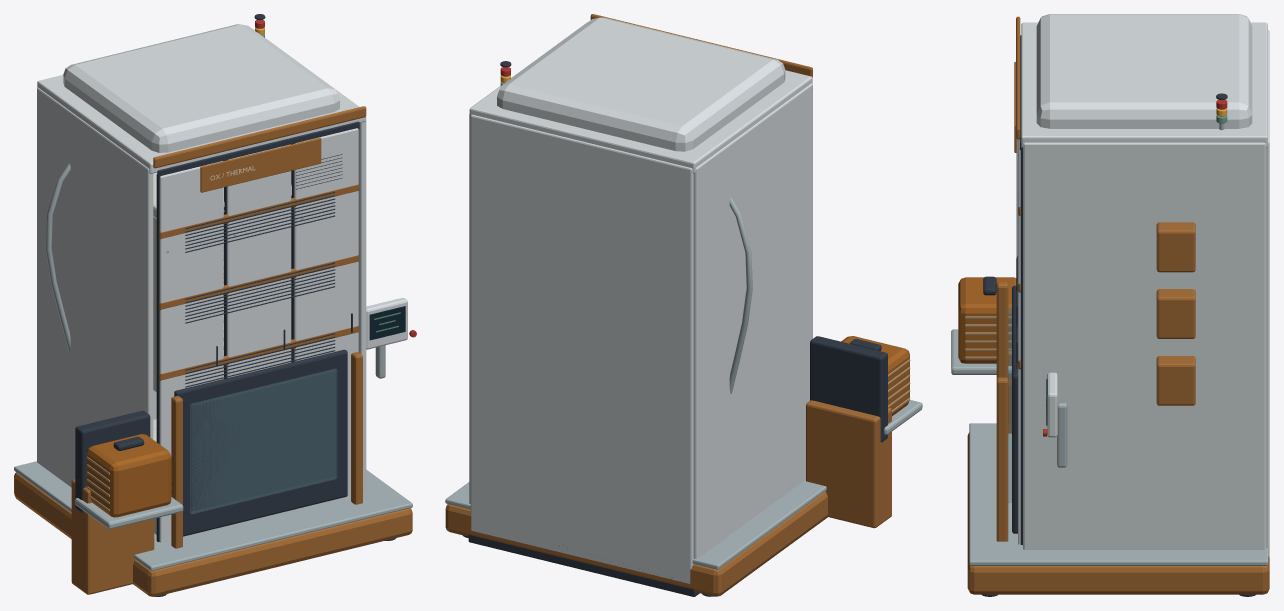
The model's file is equipment-oxidation.glb.
3 renders of one model, left to right at view 1: azimuth 30°, elevation 25°; view 2: azimuth 150°, elevation 25°; view 3: azimuth 270°, elevation 25°, orthographic. The views are drawn at different scales.
Parts seen in each view (by area): view 1: Side service skin, Boat elevator dark recess, Insulated vertical furnace crown, Boat service window, Removable service door, Removable service door.002, Removable service door.001, Segmented service plinth, Raised deck edge, Amber wafer transport pod, Independent load port base, Filtered ceiling (+17 smaller); view 2: Rear utility enclosure, Side service skin, Insulated vertical furnace crown, Independent load port base, Filtered ceiling, Segmented service plinth, Pod docking bulkhead, Raised deck edge, Equipment plinth, Amber wafer transport pod, Process feed, Side service skin.001 (+1 smaller); view 3: Side service skin.001, Insulated vertical furnace crown, Segmented service plinth, Raised deck edge, Filtered ceiling, Amber wafer transport pod, Boat bay vertical reveal.001, Thermal zone controller.002, Thermal zone controller.001, Thermal zone controller, Rear utility enclosure, Boat elevator dark recess (+8 smaller).
Boxes of the visible parts, x1,y1,x2,y2 form: Side service skin: [37, 87, 153, 487]; Boat elevator dark recess: [174, 349, 347, 536]; Insulated vertical furnace crown: [63, 24, 339, 152]; Boat service window: [190, 369, 336, 513]; Removable service door: [159, 161, 223, 542]; Removable service door.002: [294, 128, 358, 509]; Removable service door.001: [227, 144, 291, 526]; Segmented service plinth: [14, 472, 412, 596]; Raised deck edge: [14, 461, 412, 570]; Amber wafer transport pod: [86, 434, 171, 517]; Independent load port base: [71, 479, 154, 594]; Filtered ceiling: [37, 29, 365, 173]; Rear utility enclosure: [470, 114, 693, 583]; Side service skin: [693, 83, 812, 564]; Insulated vertical furnace crown: [497, 17, 785, 151]; Independent load port base: [806, 400, 891, 528]; Filtered ceiling: [469, 22, 812, 173]; Segmented service plinth: [445, 491, 827, 596]; Pod docking bulkhead: [810, 336, 887, 442]; Raised deck edge: [445, 480, 826, 569]; Equipment plinth: [468, 535, 699, 596]; Amber wafer transport pod: [841, 336, 909, 415]; Process feed: [729, 197, 752, 393]; Side service skin.001: [469, 114, 470, 503]; Side service skin.001: [1023, 142, 1265, 549]; Insulated vertical furnace crown: [1036, 14, 1252, 128]; Segmented service plinth: [967, 432, 1269, 594]; Raised deck edge: [969, 423, 1268, 565]; Filtered ceiling: [1021, 22, 1267, 147]; Amber wafer transport pod: [958, 277, 1016, 363]; Boat bay vertical reveal.001: [996, 377, 1008, 541]; Thermal zone controller.002: [1156, 222, 1195, 272]; Thermal zone controller.001: [1156, 289, 1195, 338]; Thermal zone controller: [1156, 356, 1195, 405]; Rear utility enclosure: [1266, 30, 1269, 557]; Boat elevator dark recess: [1012, 285, 1017, 533].
Size of the model in its own units: 5.96 by 7.32 by 4.32.
